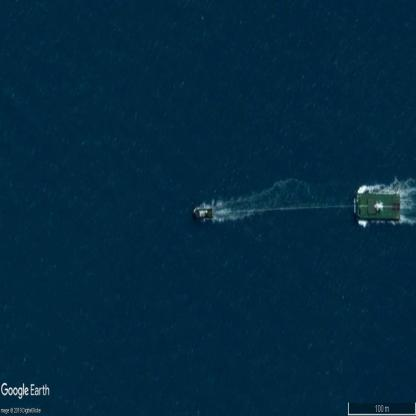ship: (353, 192, 401, 223), (192, 209, 213, 220)
